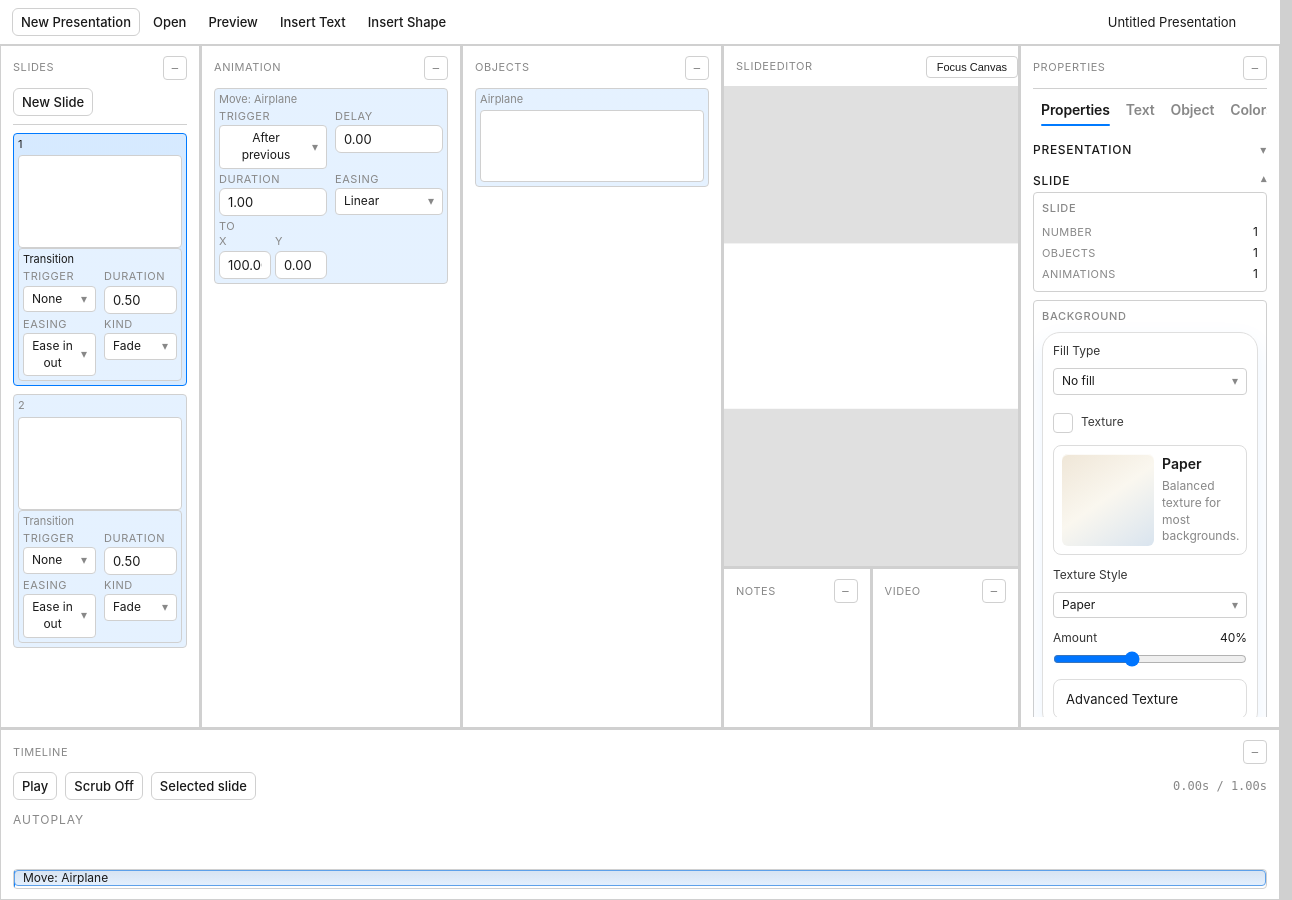
Scenario: EditorLayout › toggles to the all-slides timeline using the same timeline component
The width and height of the screenshot is (1292, 900).
Step 1. Click the button with aria-label "Show all slides timeline" → (203, 786), box [151,772,256,800]
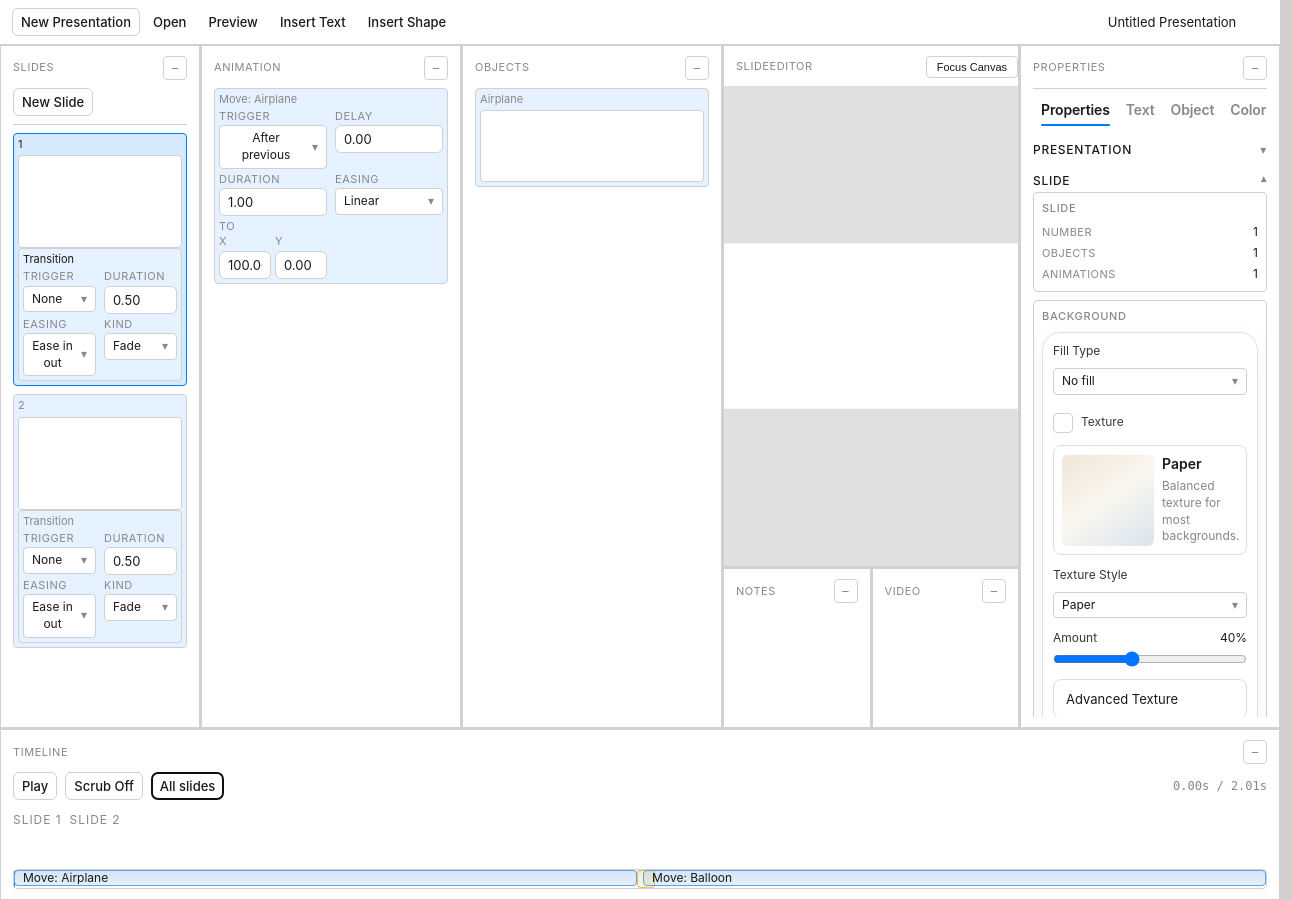
Expected: the button with aria-label "Show selected slide timeline" is shown, [151,772,224,800]
Expected: the text "Slide 1" is shown, [13,812,62,829]
Expected: the text "Slide 2" is shown, [70,812,121,829]
